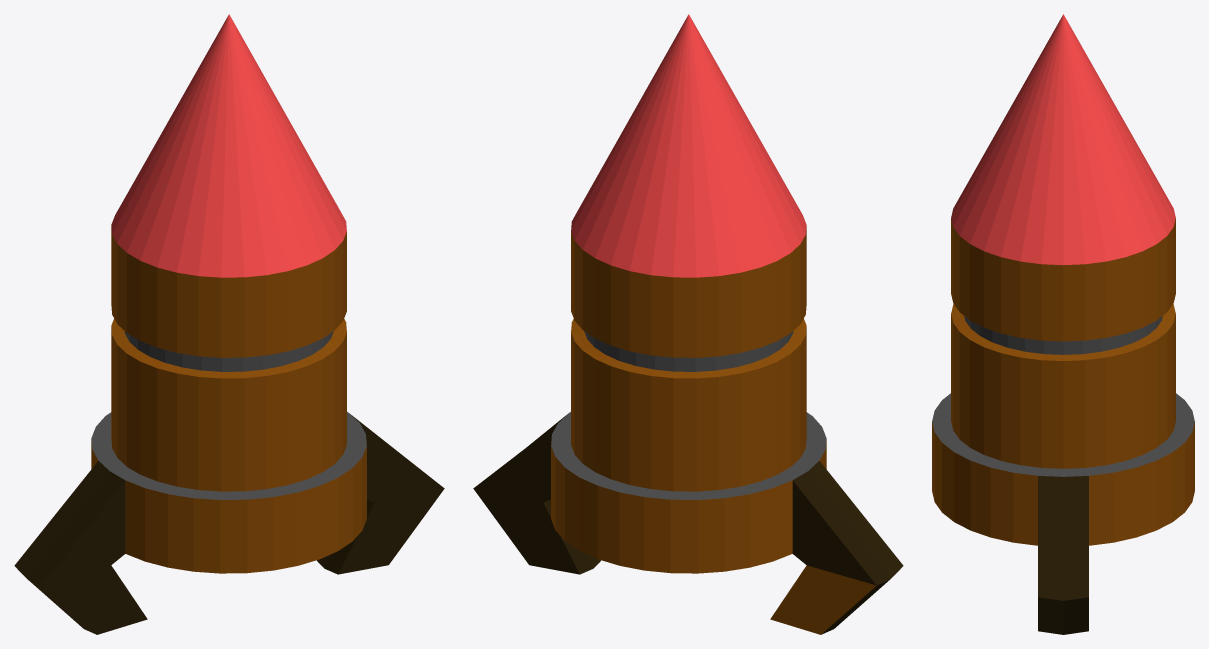
The model's file is Rocket.fbx.
3 renders of one model, left to right at view 1: azimuth 30°, elevation 25°; view 2: azimuth 150°, elevation 25°; view 3: azimuth 270°, elevation 25°, orthographic. The views are drawn at different scales.
Visible parts, largest first — view 1: Cylinder; view 2: Cylinder; view 3: Cylinder.
Boxes of the visible parts, <box> form: Cylinder: <box>14,14,444,634</box>; Cylinder: <box>473,14,903,634</box>; Cylinder: <box>932,14,1194,634</box>.
Size of the model in its own units: 395 by 543 by 234.
